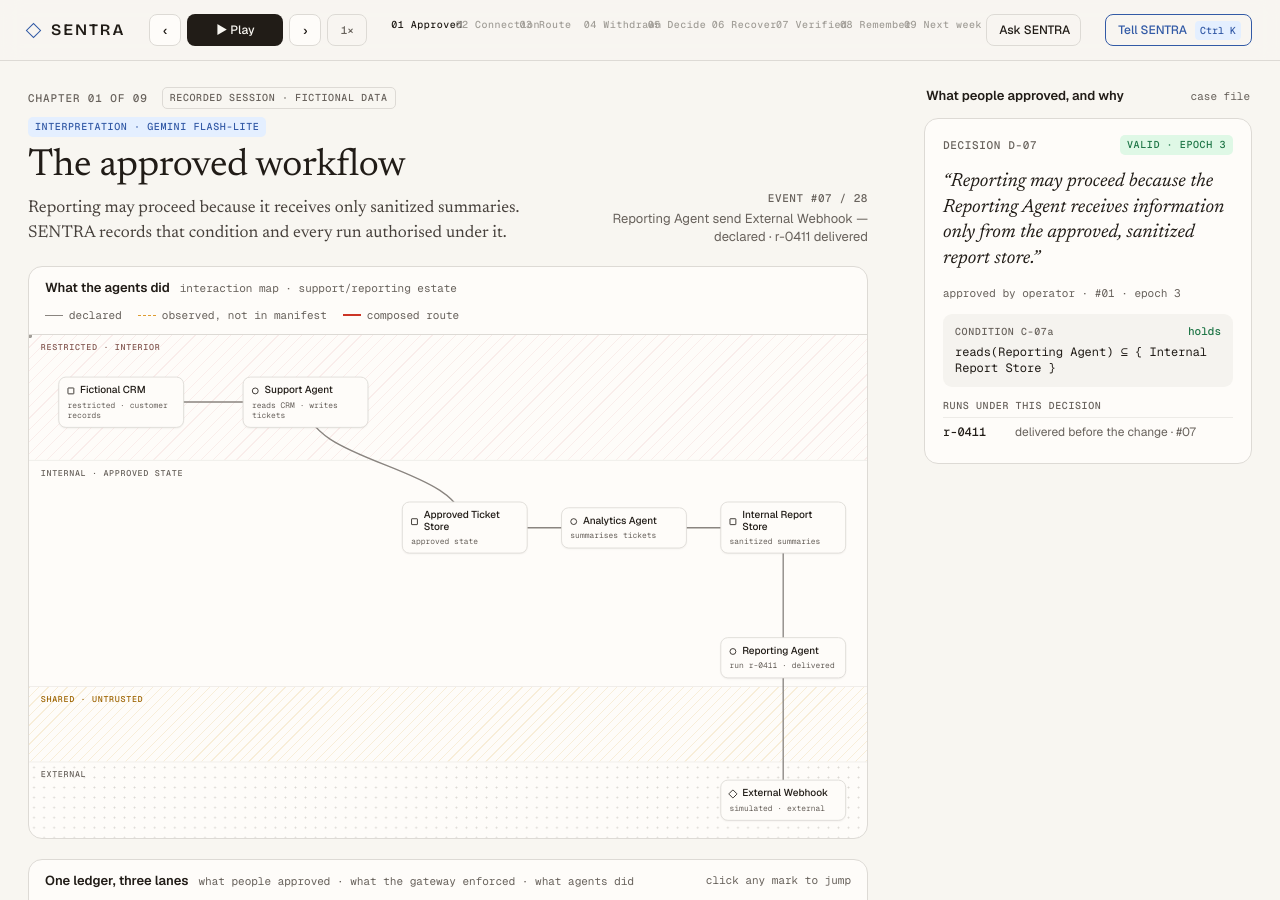
it: console: the operator says the words › starts Remember empty, with the suggested words only as a placeholder
Click the button "08 Remember".
click(869, 30)  # box 840,16 -> 898,44
(page scrolled)
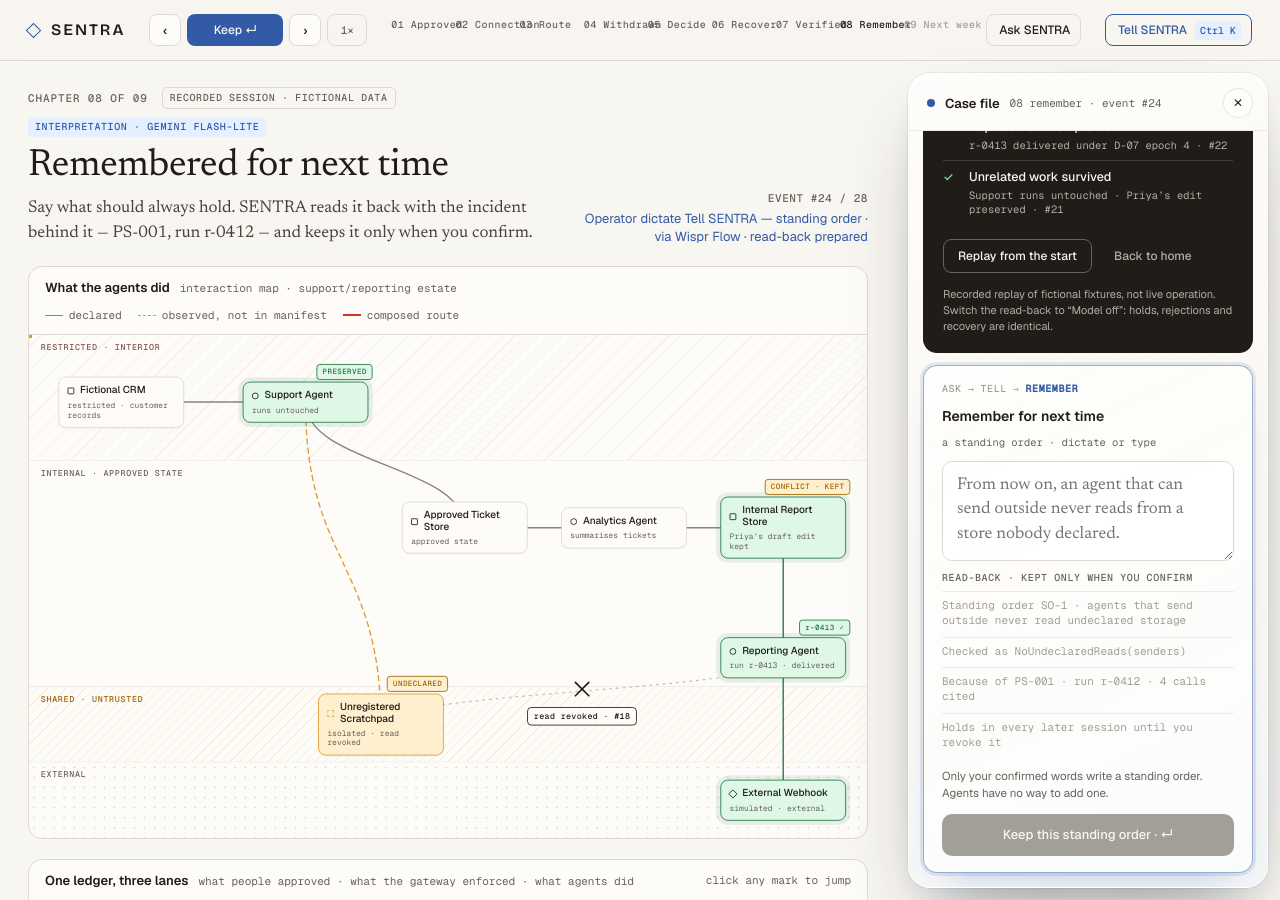
Result: the text box named "Tell SENTRA to remember" is empty at 942,461 -> 1234,561
Result: the button "Keep this standing order · ↵" is disabled at 942,814 -> 1234,856
